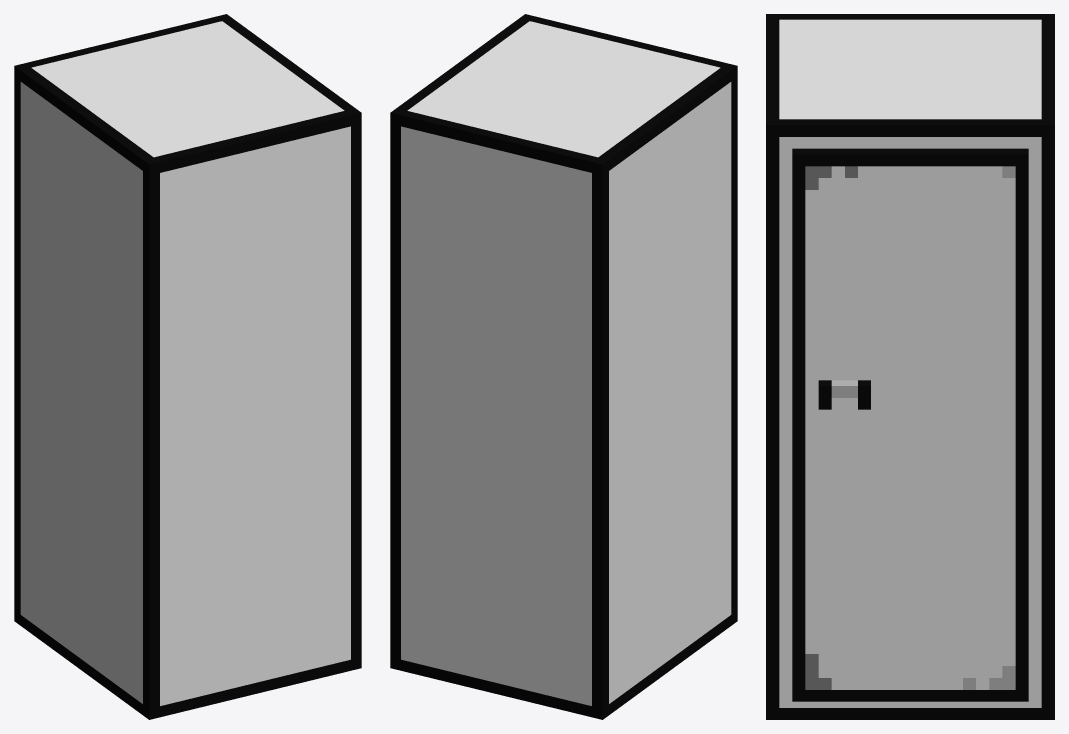
File: KitchenFridge.obj
3 views of the same model, side by side, from view 1: azimuth 30°, elevation 25°; view 2: azimuth 150°, elevation 25°; view 3: azimuth 270°, elevation 25° (orthographic). The views are drawn at different scales.
Visible parts, largest first — view 1: KitchenFridge; view 2: KitchenFridge; view 3: KitchenFridge.
Part boxes in pixels (<box>): KitchenFridge: <box>14,14,361,719</box>; KitchenFridge: <box>390,14,737,719</box>; KitchenFridge: <box>766,14,1054,719</box>.
Size of the model in its own units: 2.2 by 5 by 2.2.
Materials: 1 (1 with a texture image).
